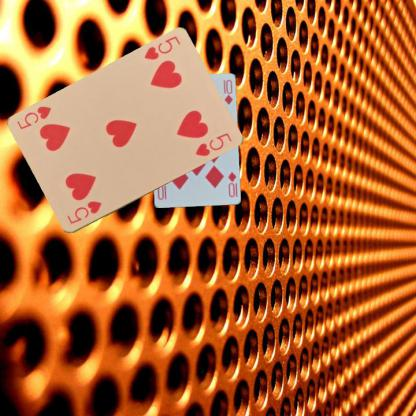10d: (225, 169, 239, 198)
5h: (142, 33, 182, 62), (64, 198, 103, 226)
